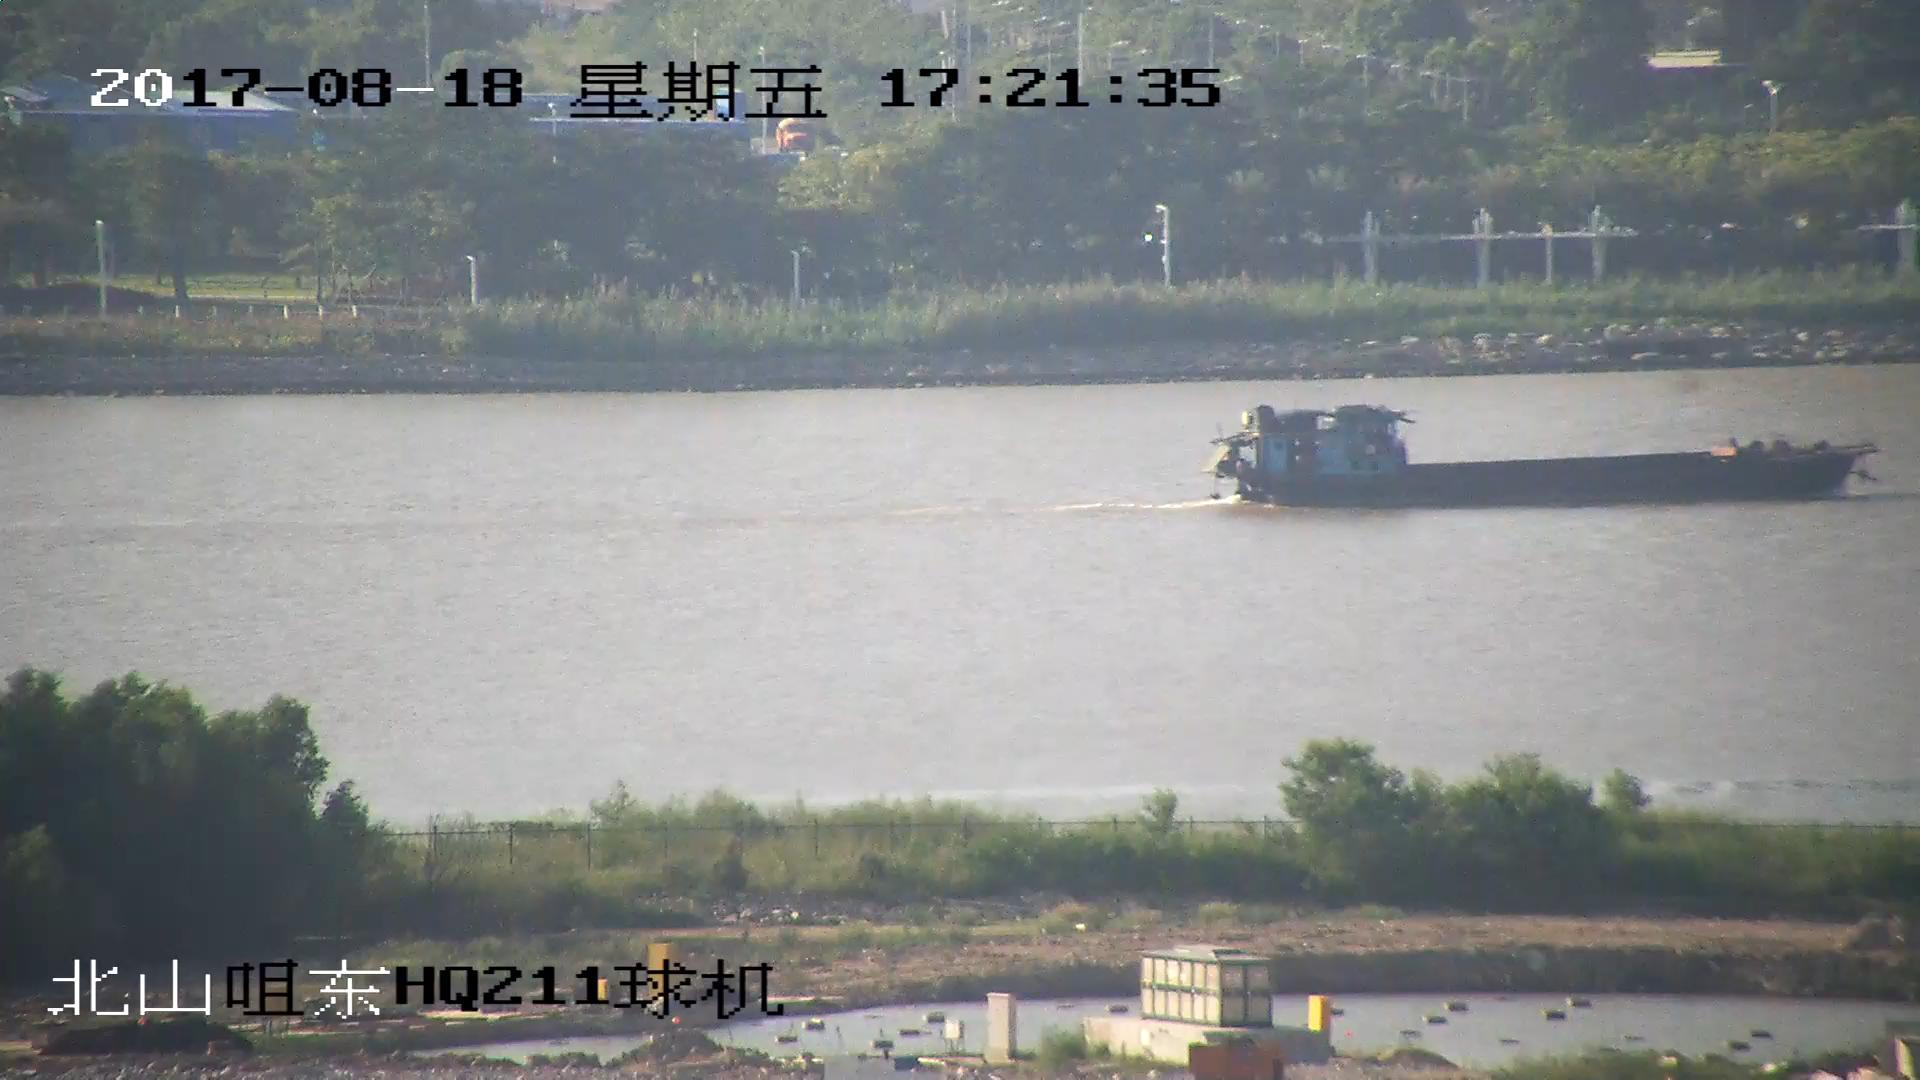Ship: (1215, 409, 1882, 513)
